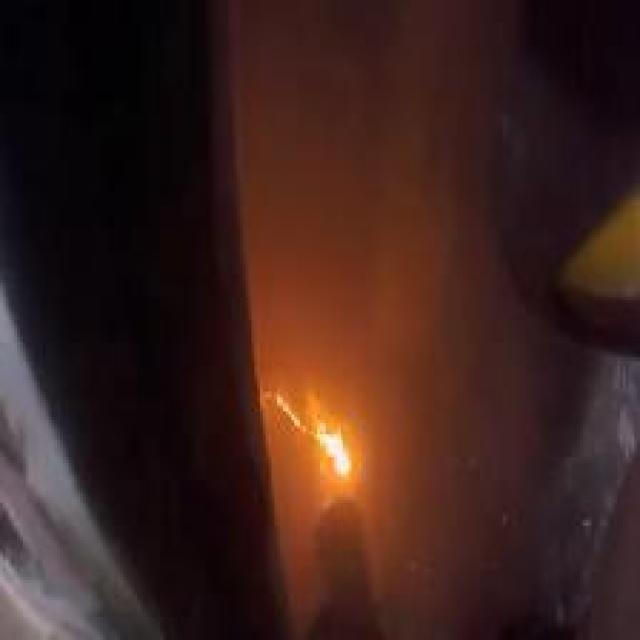fire: (249, 376, 358, 481)
